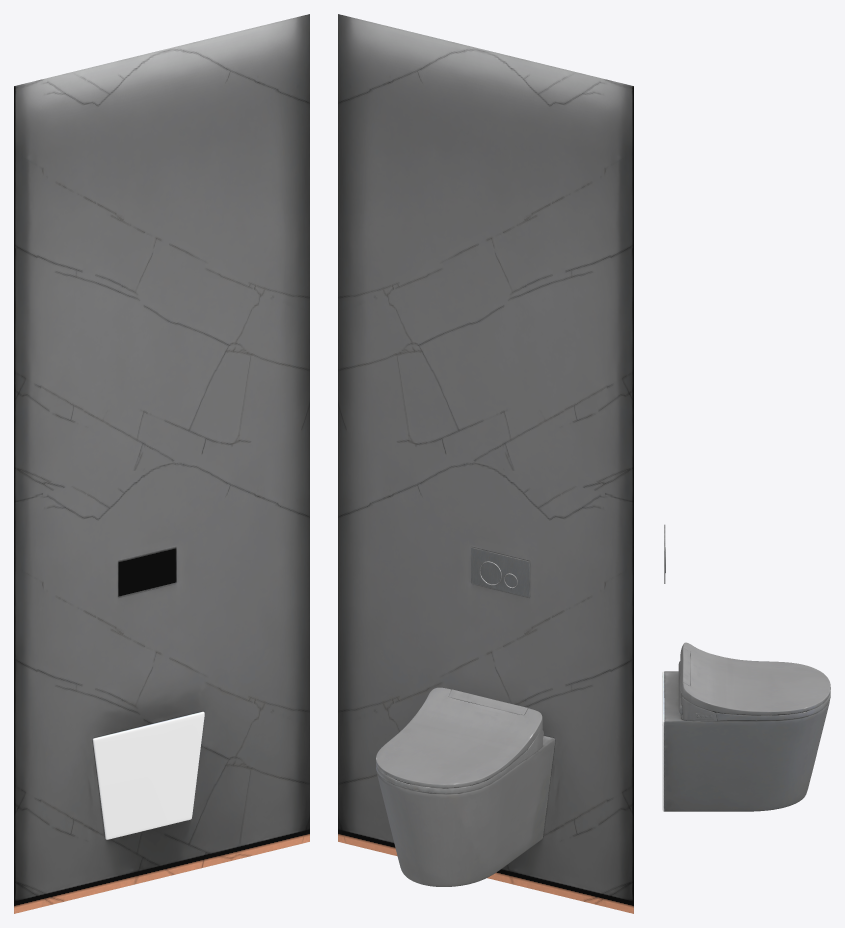
Rendered from E_Clenz_WC_final_old.glb.
3 renders of one model, left to right at view 1: azimuth 30°, elevation 25°; view 2: azimuth 150°, elevation 25°; view 3: azimuth 270°, elevation 25°, orthographic. The views are drawn at different scales.
Visible parts, largest first — view 1: E_Clenz_WC_final; view 2: E_Clenz_WC_final; view 3: E_Clenz_WC_final.
Boxes of the visible parts, <box> form: E_Clenz_WC_final: <box>14,14,309,913</box>; E_Clenz_WC_final: <box>338,14,633,913</box>; E_Clenz_WC_final: <box>662,524,830,811</box>.
Bounding box in the file's own units: 3.68 × 9.85 × 1.97.
Materials: 1 (1 with a texture image).
